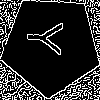Y: (26, 21, 72, 57)
